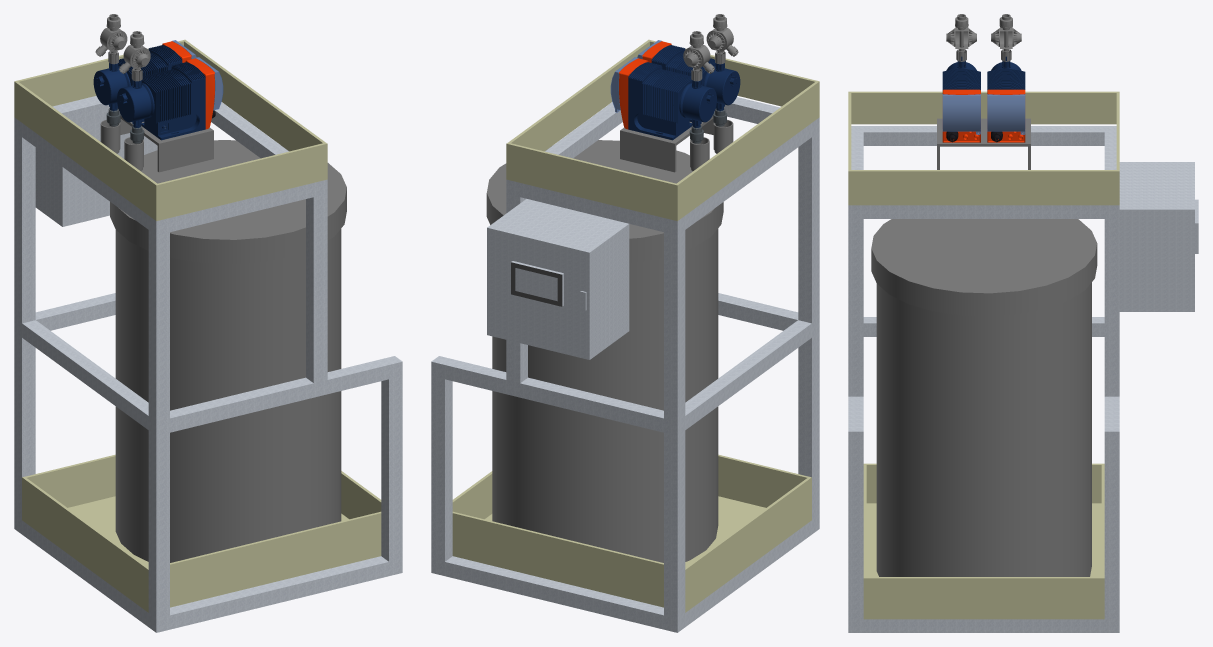
Rendered from stage4_2.gltf.
3 renders of one model, left to right at view 1: azimuth 30°, elevation 25°; view 2: azimuth 150°, elevation 25°; view 3: azimuth 270°, elevation 25°, orthographic. The views are drawn at different scales.
Parts seen in each view (by area): view 1: tanks combined#2, object 5, object 1, object 2, Group#3 (×2), object 21, object 4, Group#1 (×3), object 3; view 2: tanks combined#2, object 5, object 1, object 21, object 2, Group#3 (×2), object 4, Group#1 (×3), object 3; view 3: tanks combined#2, object 5, object 2, object 1, object 21, Group#186 (×2), Group#1 (×4), Group#3 (×2), object 4.
Part boxes in pixels (left/top/right/bottom): tanks combined#2: left=110, top=140, right=346, bottom=562; object 5: left=14, top=97, right=402, bottom=632; object 1: left=22, top=454, right=381, bottom=612; object 2: left=14, top=39, right=327, bottom=221; Group#3 (×2): left=93, top=45, right=205, bottom=140; object 21: left=35, top=96, right=157, bottom=226; object 4: left=109, top=108, right=213, bottom=172; Group#1 (×3): left=100, top=28, right=215, bottom=129; object 3: left=100, top=120, right=143, bottom=170; tanks combined#2: left=486, top=140, right=723, bottom=562; object 5: left=431, top=97, right=819, bottom=632; object 1: left=452, top=454, right=811, bottom=612; object 21: left=487, top=199, right=629, bottom=359; object 2: left=506, top=39, right=819, bottom=221; Group#3 (×2): left=628, top=45, right=740, bottom=140; object 4: left=620, top=108, right=724, bottom=172; Group#1 (×3): left=619, top=27, right=733, bottom=129; object 3: left=690, top=119, right=733, bottom=170; tanks combined#2: left=871, top=219, right=1097, bottom=576; object 5: left=848, top=126, right=1119, bottom=632; object 2: left=848, top=91, right=1119, bottom=205; object 1: left=863, top=463, right=1104, bottom=619; object 21: left=1119, top=162, right=1198, bottom=311; Group#186 (×2): left=942, top=94, right=1025, bottom=134; Group#1 (×4): left=942, top=27, right=1025, bottom=142; Group#3 (×2): left=942, top=56, right=1025, bottom=137; object 4: left=937, top=118, right=1030, bottom=169.
Bounding box in the file's own units: 0.72 × 1.53 × 0.9295.
11 materials, 1 textured.
